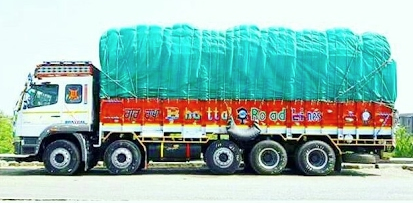truck: (11, 22, 398, 180)
